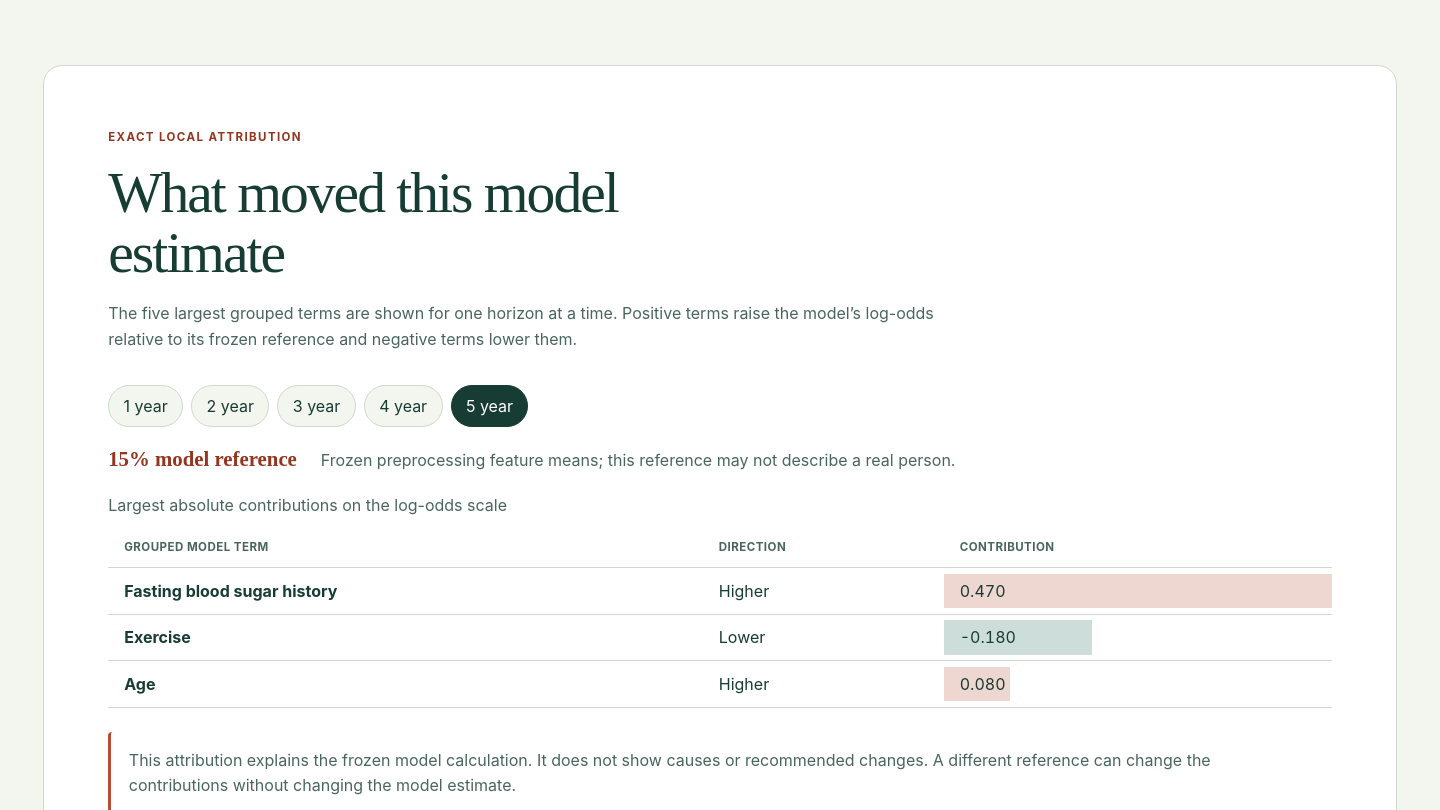
baseline result › shows a horizon-specific local attribution with its reference and limits
(page scrolled)
Check: the heading "What moved this model estimate" is shown, box [108, 163, 626, 284]
Check: the column heading "Fasting blood sugar history" is shown, box [108, 567, 703, 614]
Click the button with aria-label "1 year explanation" at {"x": 146, "y": 406}, box [108, 384, 183, 427]
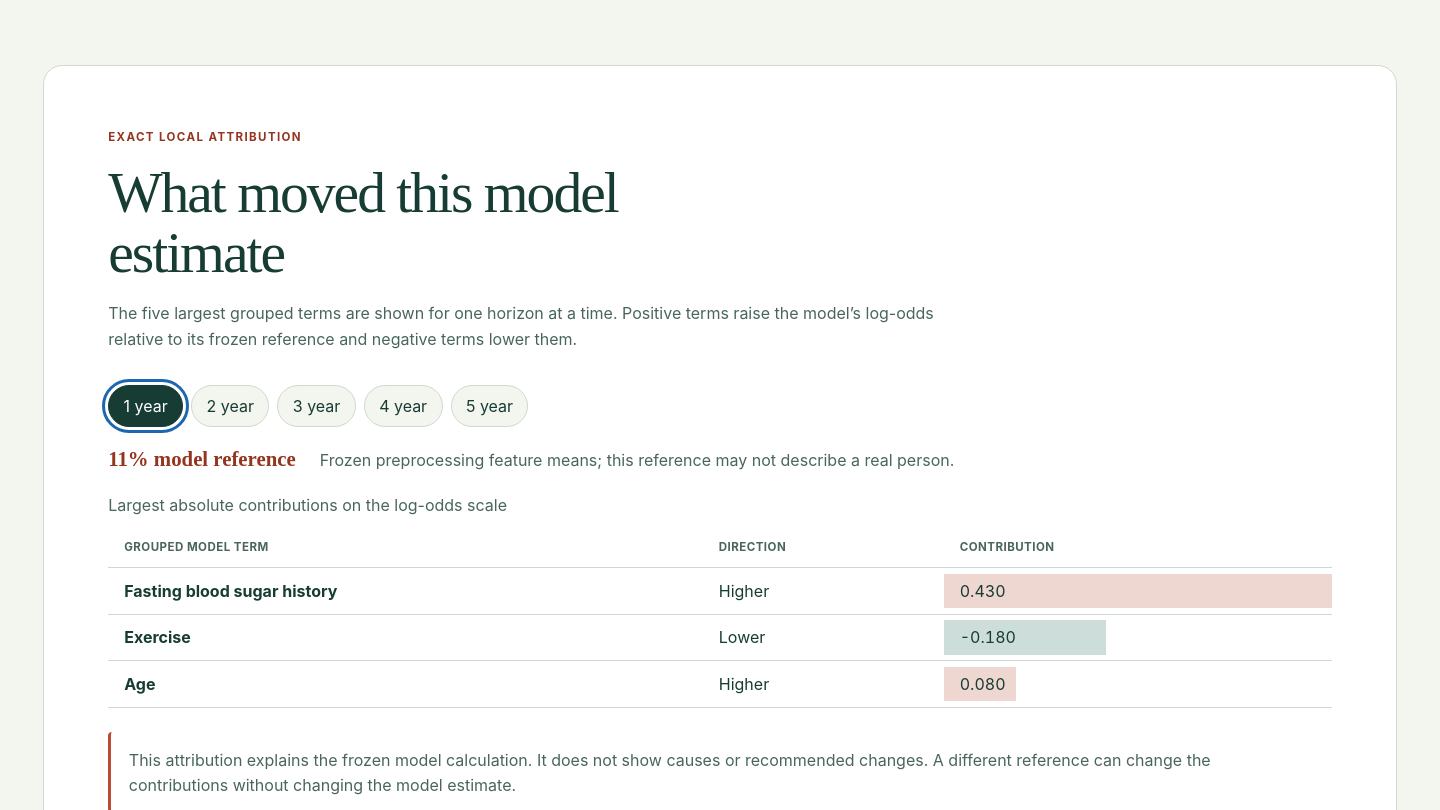
Check: the table named "One-year model contributions" is shown, box [108, 495, 1332, 708]
Check: the text "11% model reference" is shown, box [108, 447, 296, 471]
